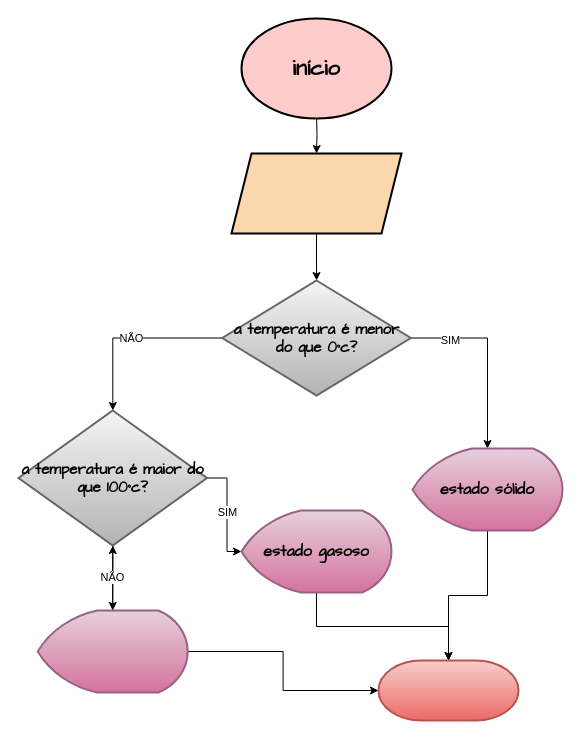
Some shapes in this 580 by 738 pixel diagram are drawn without their labels. The shapes that lost their labels are listed below. From the top down, each one's centre as x and y in pixels, then its label:
At pixel 316 193: "meça a temperatura de um líquido".
At pixel 112 651: "estado líquido".
At pixel 448 690: "fim".
